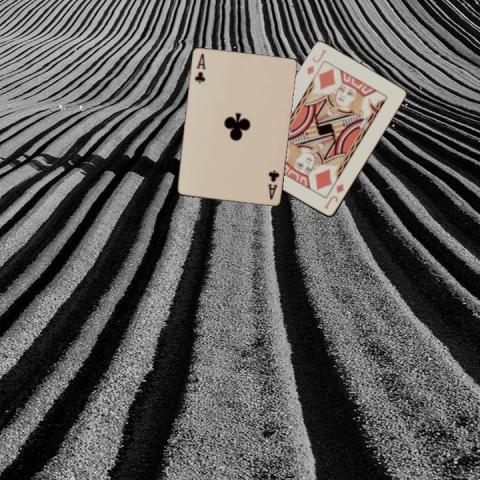Ac: (191, 50, 207, 85), (265, 166, 281, 200)
Jd: (321, 180, 345, 210), (304, 46, 328, 76)
